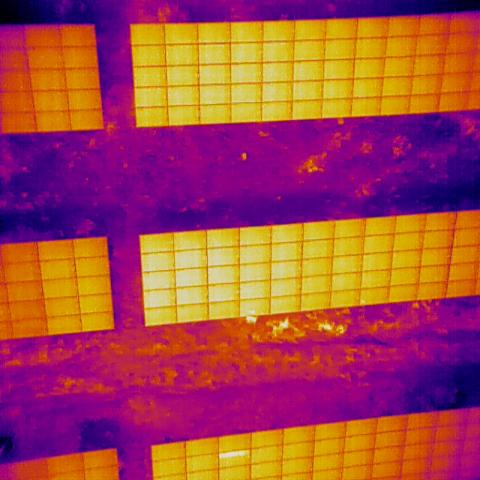fault: (217, 449, 248, 460)
